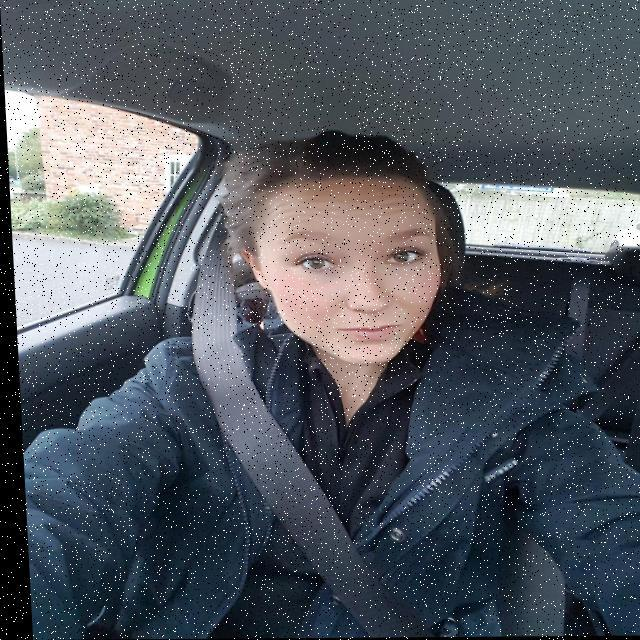seatbelt: (104, 284, 514, 640)
